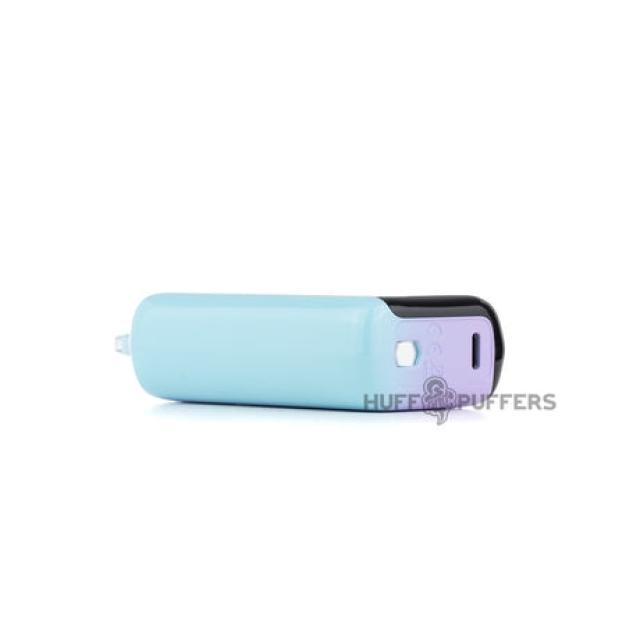Vape-images: (113, 289, 505, 419)
